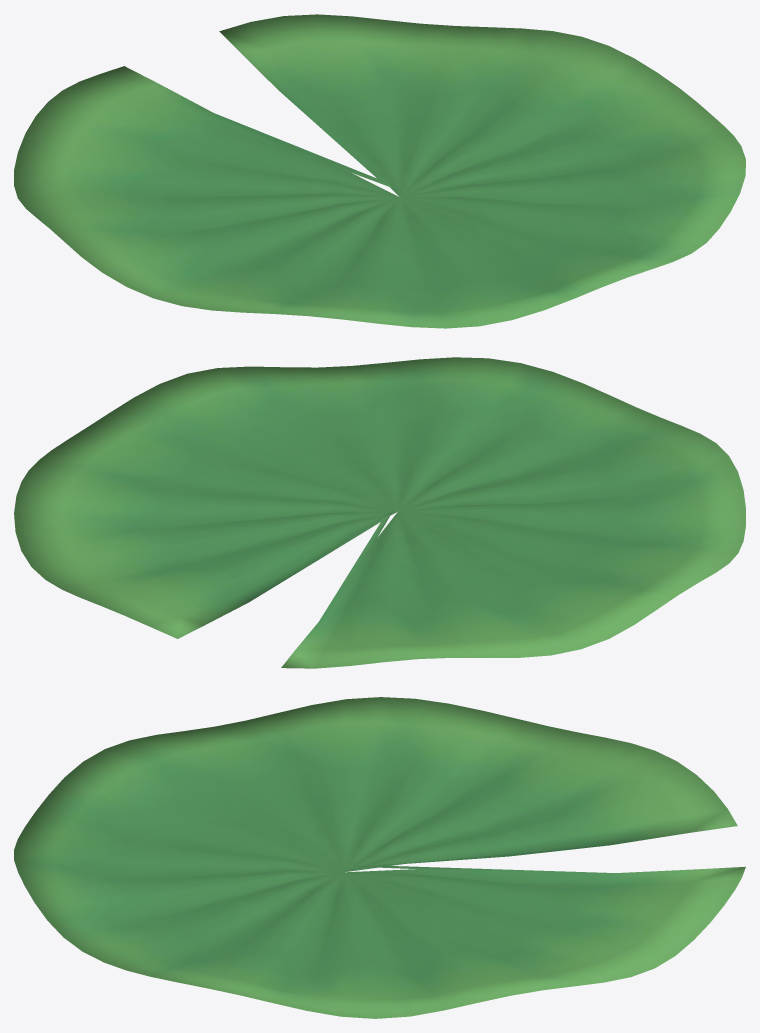
Rendered from LilyPad_Single_3.fbx.
3 renders of one model, top to bottom at view 1: azimuth 30°, elevation 25°; view 2: azimuth 150°, elevation 25°; view 3: azimuth 270°, elevation 25°, orthographic.
Parts seen in each view (by area): view 1: LilyPad_Single_3; view 2: LilyPad_Single_3; view 3: LilyPad_Single_3.
Boxes of the visible parts, <box> form: LilyPad_Single_3: <box>14,14,745,328</box>; LilyPad_Single_3: <box>14,357,745,668</box>; LilyPad_Single_3: <box>14,697,745,1018</box>.
Size of the model in its own units: 0.3398 by 0.0105 by 0.34.
1 material, 1 textured.
